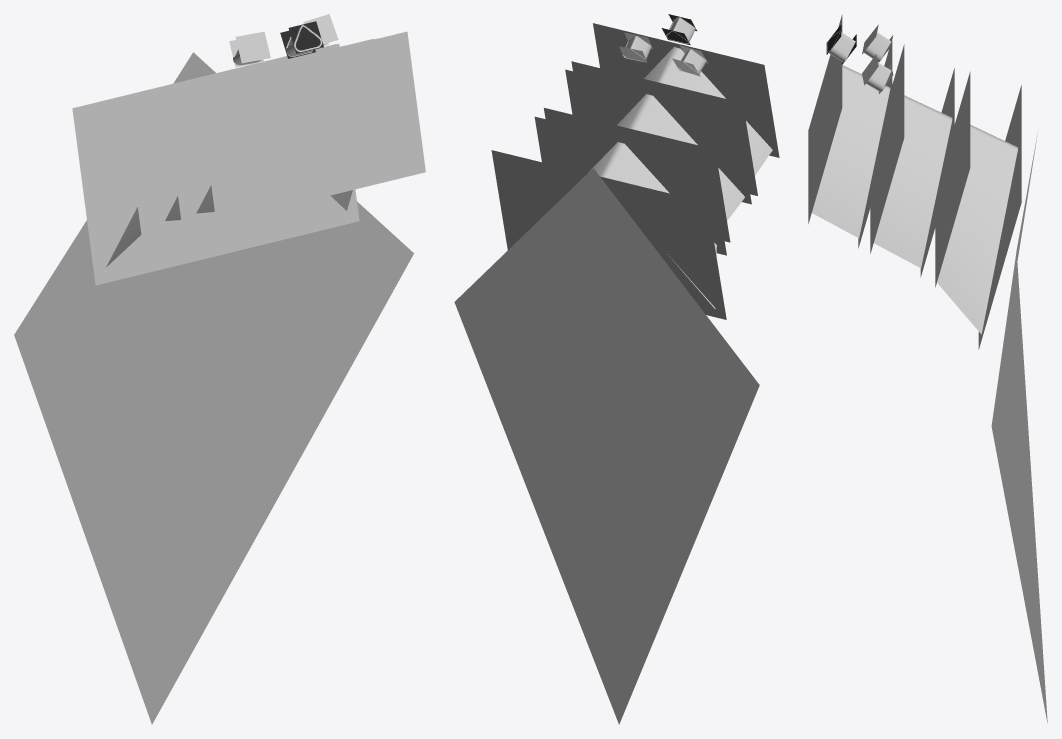
Rendered from ultimo_02.dae.
3 renders of one model, left to right at view 1: azimuth 30°, elevation 25°; view 2: azimuth 150°, elevation 25°; view 3: azimuth 270°, elevation 25°, orthographic. The views are drawn at different scales.
Parts seen in each view (by area): view 1: Object.2, Object.11, Object.3, Object.7, Object.10, Object.4, Object.9, Object.5, Object.19, megapattern_top; view 2: Object.2, Object.3, Object.9, Object.4, Object.11, Object.7, Object.10, Object.8, Object.6, Object.5; view 3: Object.2, Object.5, Object.8, Object.6, Object.11, Object.4, Object.9, Object.3, Object.7, Object.10.
Boxes of the visible parts, x1=… form: Object.2: x1=14, y1=52, x2=413, y2=724; Object.11: x1=198, y1=31, x2=425, y2=223; Object.3: x1=72, y1=44, x2=359, y2=285; Object.7: x1=136, y1=45, x2=344, y2=237; Object.10: x1=169, y1=38, x2=378, y2=229; Object.4: x1=123, y1=44, x2=339, y2=241; Object.9: x1=164, y1=39, x2=373, y2=230; Object.5: x1=106, y1=190, x2=352, y2=267; Object.19: x1=235, y1=31, x2=270, y2=63; megapattern_top: x1=288, y1=21, x2=323, y2=53; Object.2: x1=454, y1=168, x2=759, y2=724; Object.3: x1=491, y1=150, x2=726, y2=319; Object.9: x1=565, y1=69, x2=751, y2=204; Object.4: x1=534, y1=116, x2=726, y2=255; Object.11: x1=593, y1=23, x2=779, y2=157; Object.7: x1=544, y1=108, x2=730, y2=242; Object.10: x1=571, y1=61, x2=757, y2=195; Object.8: x1=617, y1=94, x2=744, y2=220; Object.6: x1=644, y1=47, x2=772, y2=175; Object.5: x1=588, y1=142, x2=716, y2=308; Object.2: x1=991, y1=130, x2=1047, y2=722; Object.5: x1=937, y1=124, x2=1018, y2=334; Object.8: x1=874, y1=95, x2=952, y2=267; Object.6: x1=812, y1=65, x2=890, y2=237; Object.11: x1=808, y1=14, x2=842, y2=223; Object.4: x1=935, y1=71, x2=970, y2=287; Object.9: x1=870, y1=44, x2=904, y2=253; Object.3: x1=978, y1=85, x2=1021, y2=349; Object.7: x1=920, y1=68, x2=954, y2=277; Object.10: x1=858, y1=41, x2=892, y2=248.
Bounding box in the file's own units: 525 × 1003 × 306.
3 materials, 2 textured.
